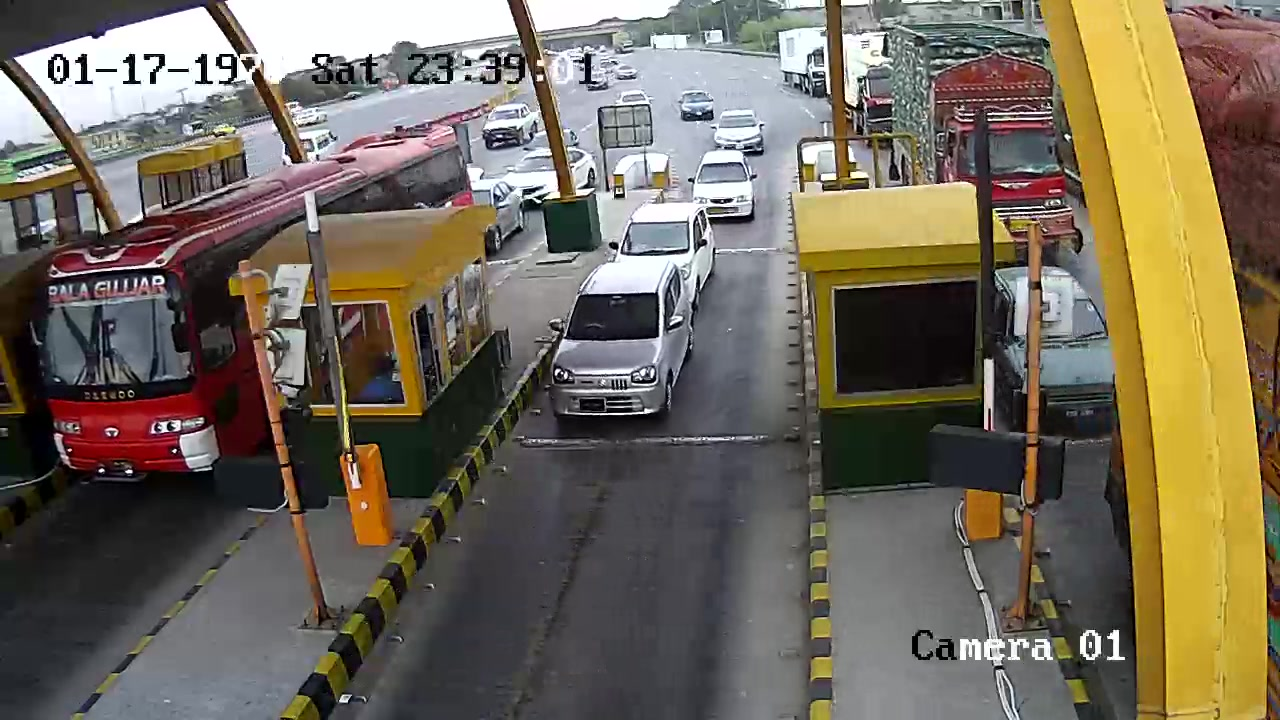F1: (543, 258, 699, 430)
